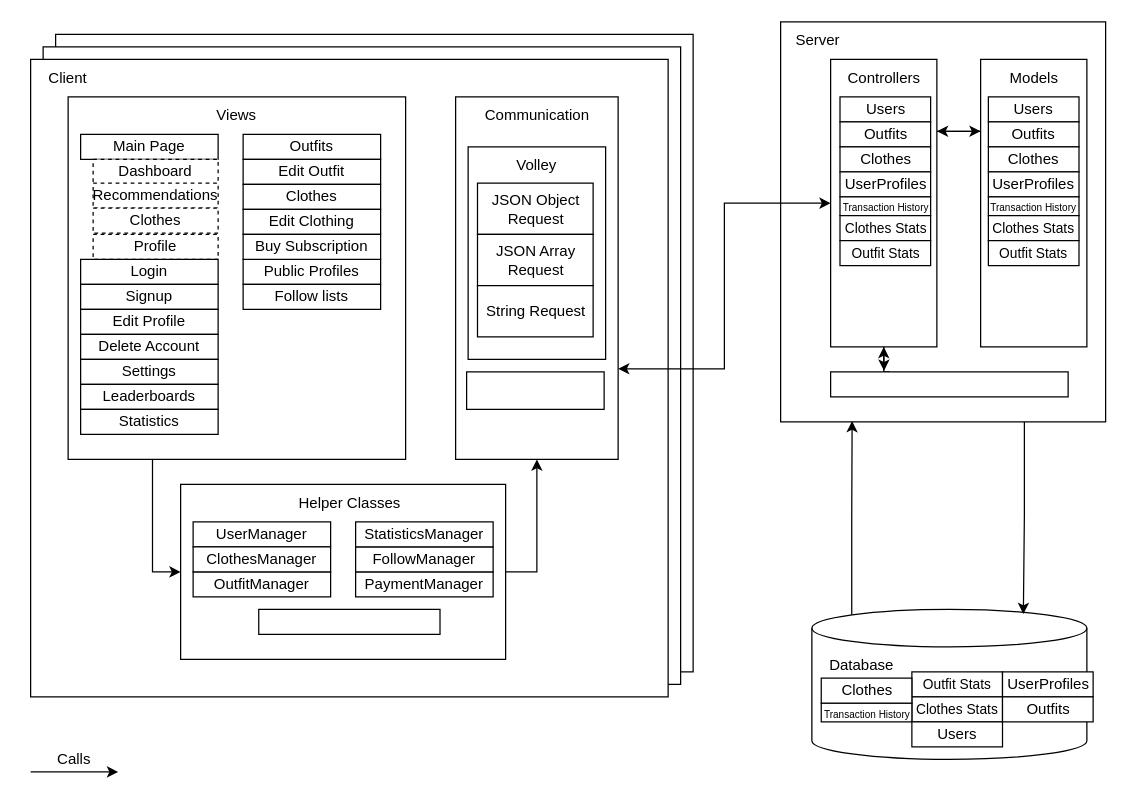
Image size: 1128x804. Some labels were removed from this diagram. Here are the shapes that lost their labels. From the top down, the centre of each, then its label:
point 534,390: WebSocket
point 948,384: Repositories
point 349,621: RecWebSocketService
